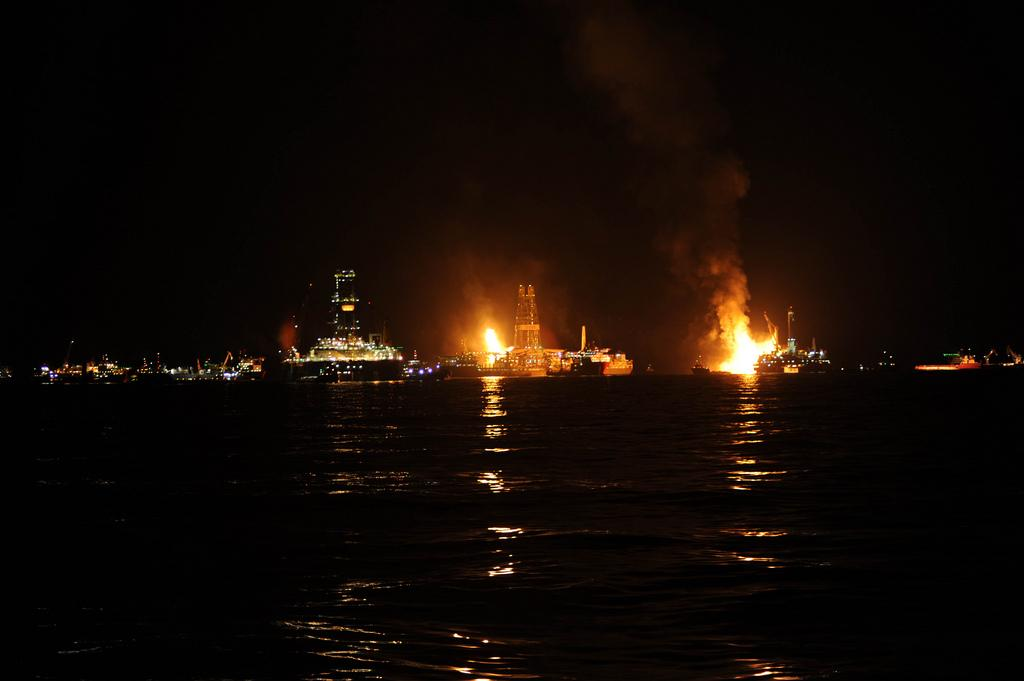fire: (725, 325, 773, 382), (480, 330, 512, 353)
